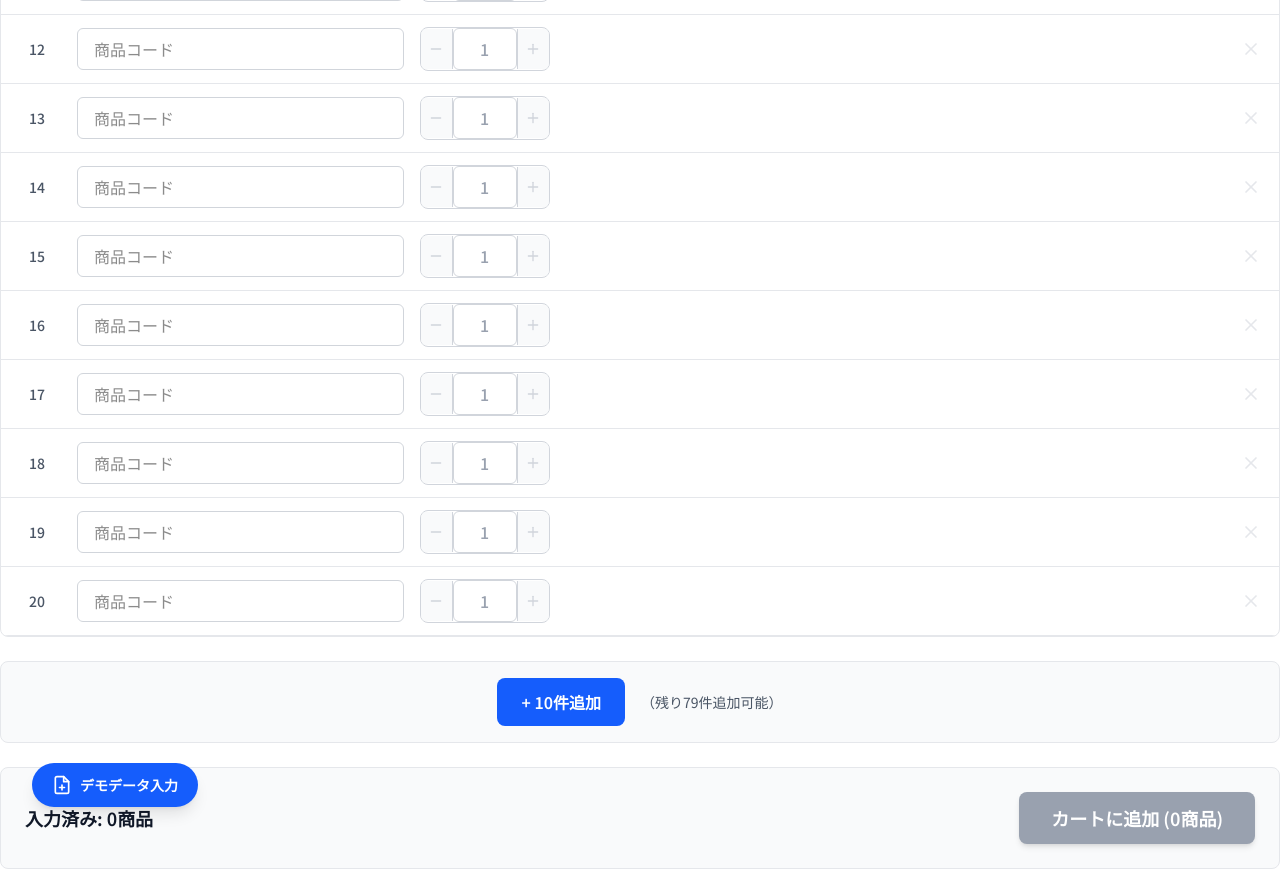
Test: QuickOrderMultiLineForm › 10件追加ボタンで行が追加されること
(page scrolled)
Click the button "+ 10件追加". click: (561, 702)
box: [498,678,625,726]
(page scrolled)
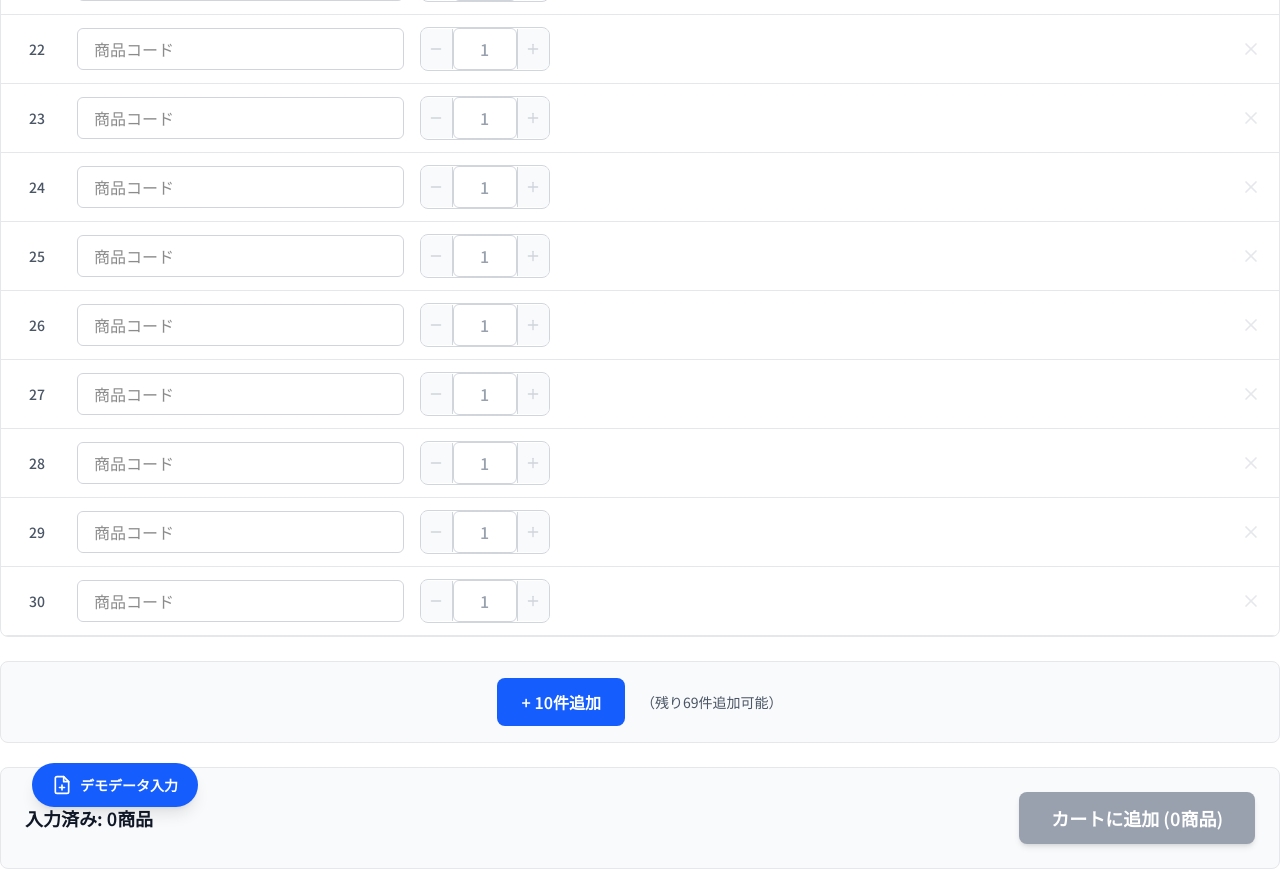
Expected: the text "30" is shown, [29,591,45,611]
